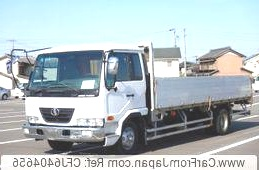car: (0, 87, 10, 100)
